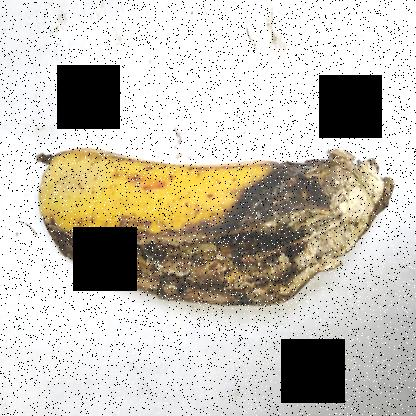rotten: (52, 109, 403, 317)
